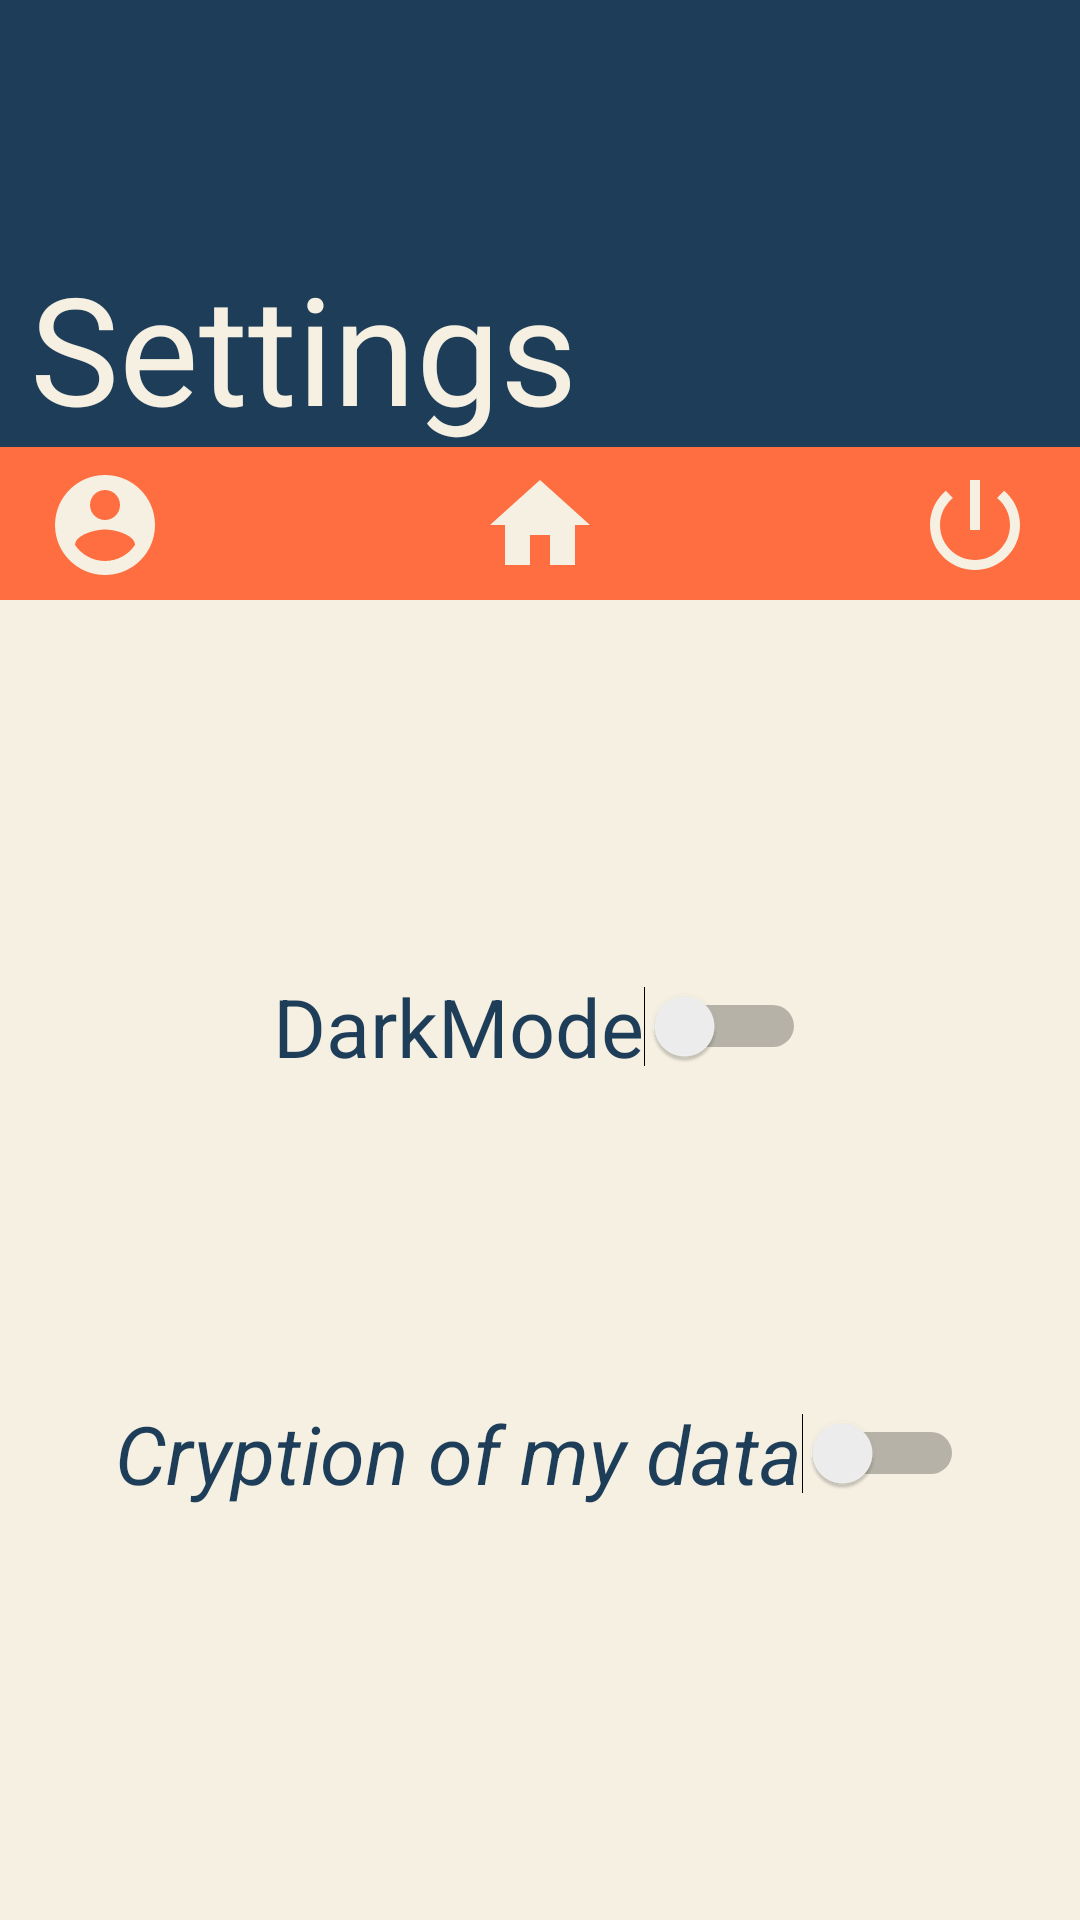

Screen size 1080w x 1920h. Icon name, then its box in pixels as box=[x1, y1, x2, y2]:
account circle: box=[55, 475, 155, 575]
home: box=[490, 480, 590, 565]
power settings: box=[930, 480, 1020, 570]
